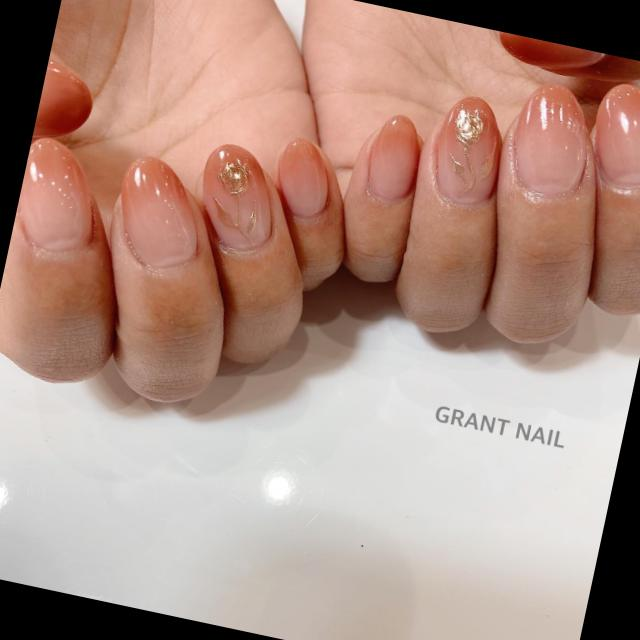Nail: (120, 156, 197, 268), (513, 84, 588, 197), (18, 137, 92, 251), (202, 144, 271, 251), (436, 97, 500, 206), (595, 84, 640, 189), (367, 115, 419, 202), (278, 138, 328, 218), (499, 32, 604, 68)
